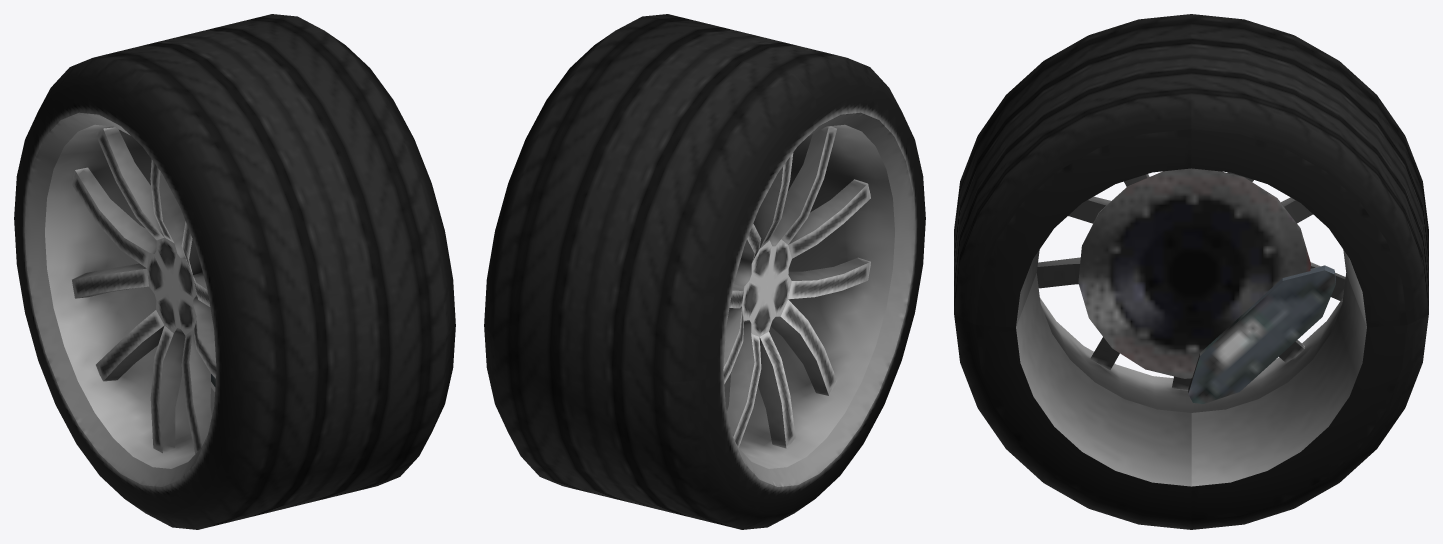
The model's file is Wheel2.fbx.
3 renders of one model, left to right at view 1: azimuth 30°, elevation 25°; view 2: azimuth 150°, elevation 25°; view 3: azimuth 270°, elevation 25°, orthographic. The views are drawn at different scales.
Parts seen in each view (by area): view 1: Tire, Metal; view 2: Tire, Metal; view 3: Tire, Disc, Metal.
Part boxes in pixels (bbox=[...]): Tire: bbox=[14, 14, 455, 529]; Metal: bbox=[24, 112, 216, 486]; Tire: bbox=[484, 14, 925, 529]; Metal: bbox=[723, 112, 915, 486]; Tire: bbox=[954, 14, 1428, 529]; Disc: bbox=[1078, 168, 1335, 403]; Metal: bbox=[1016, 168, 1366, 486].
Bounding box in the file's own units: 46.56 × 84.72 × 84.72.
